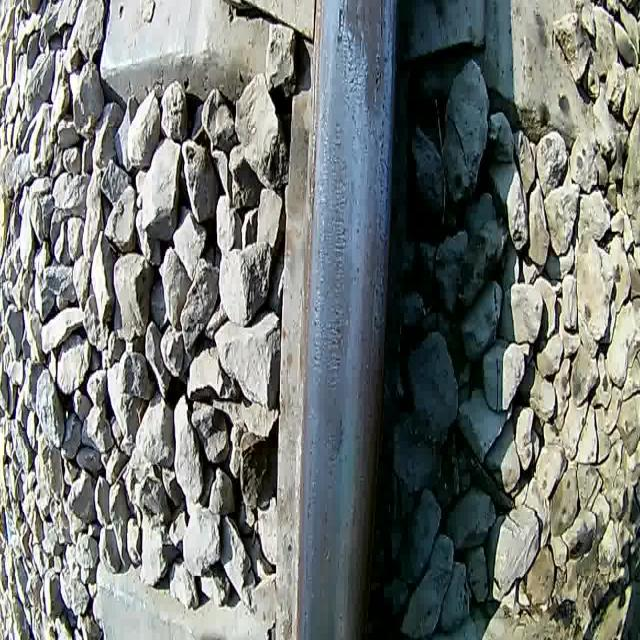Squats: (335, 0, 391, 129)
